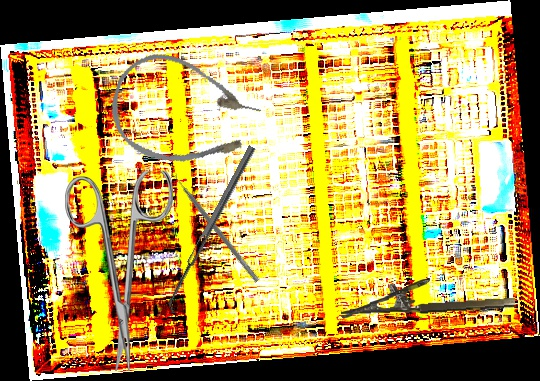Cannula: (100, 44, 269, 183)
Iris Scissors: (65, 171, 173, 371)
Needle Holder: (339, 273, 516, 319)
Spatula Surgical: (162, 145, 263, 315), (169, 170, 265, 283)
